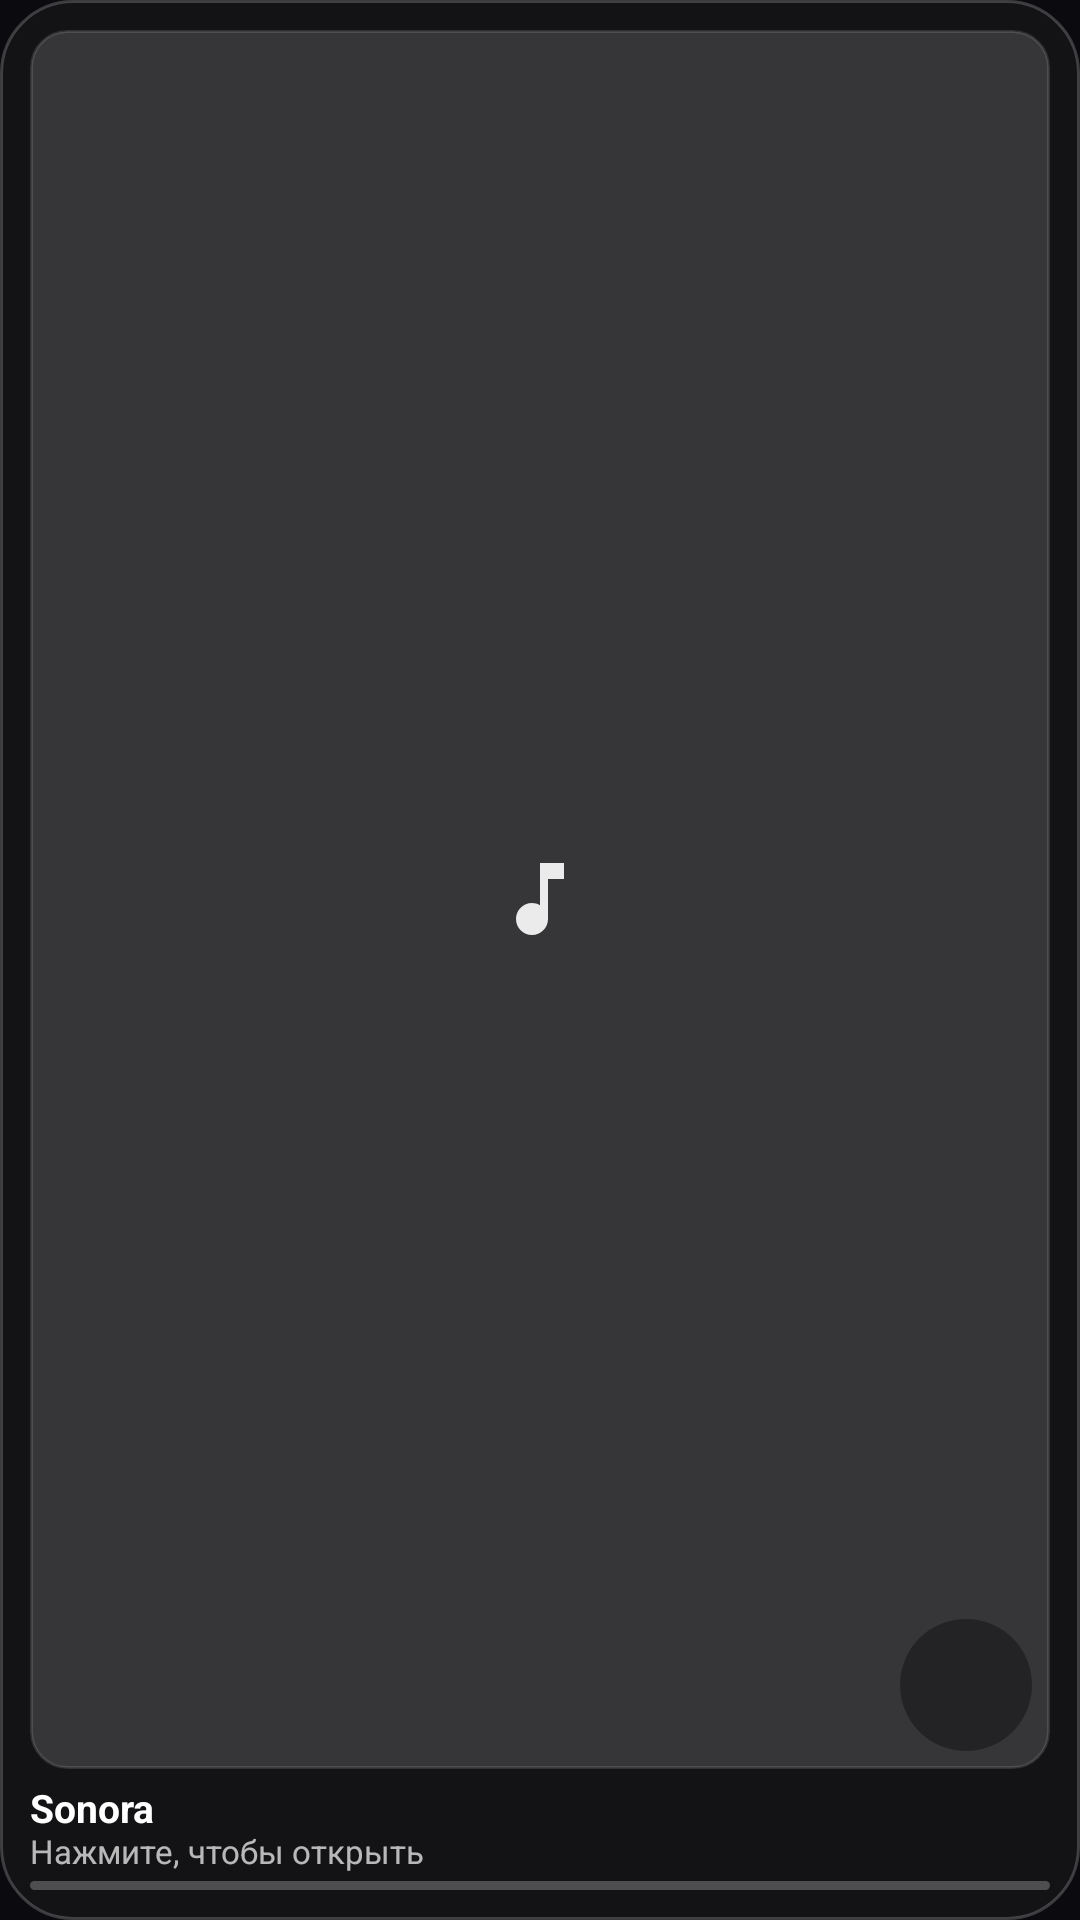

Icons on this 1080*1920 Android screen, each with its box as rect(x1, y1, x2, y2):
widget music note: rect(516, 863, 564, 935)
